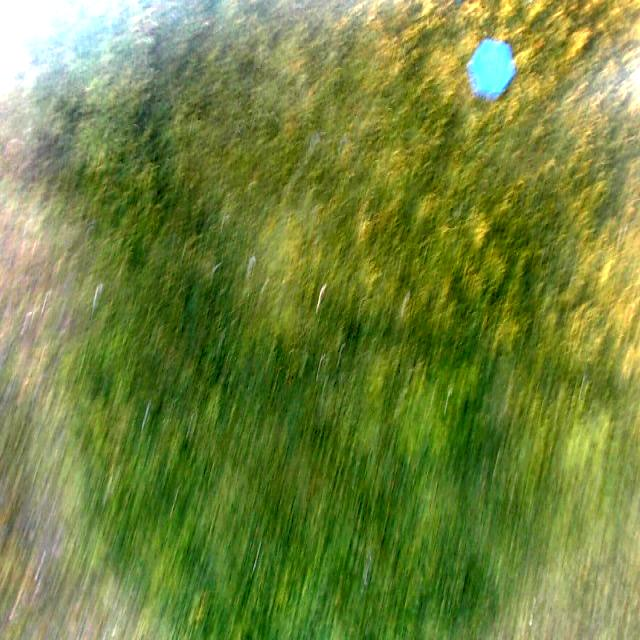blue_hexagon: (470, 39, 514, 97)
